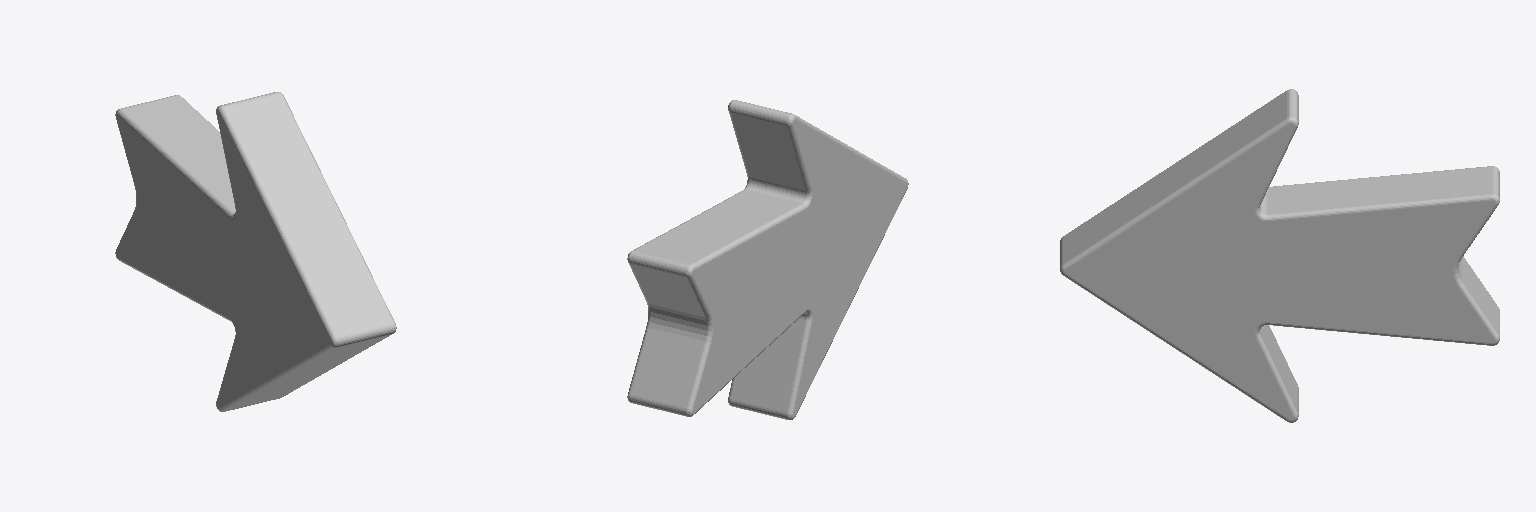
Rendered from Arrow.obj.
3 views of the same model, side by side, from view 1: azimuth 30°, elevation 25°; view 2: azimuth 150°, elevation 25°; view 3: azimuth 270°, elevation 25° (orthographic).
Parts seen in each view (by area): view 1: Arrow; view 2: Arrow; view 3: Arrow.
Part boxes in pixels (bbox=[...]): Arrow: bbox=[115, 92, 396, 411]; Arrow: bbox=[627, 100, 908, 419]; Arrow: bbox=[1060, 89, 1499, 422].
Bounding box in the file's own units: 30 × 135 × 176.